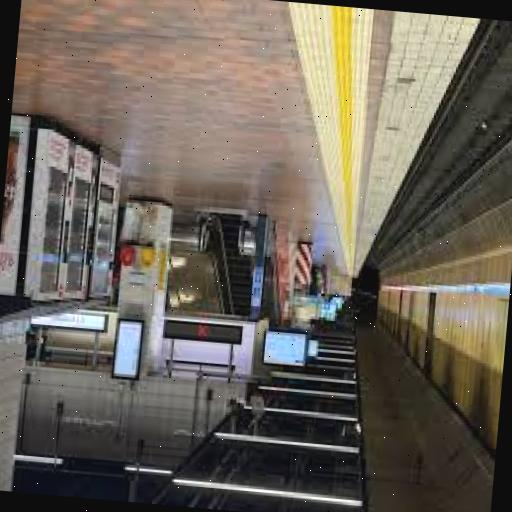clear_path: (19, 0, 346, 262)
platform_edge: (357, 16, 474, 271)
signage: (111, 317, 145, 384), (262, 330, 309, 370)
tgsi: (288, 7, 373, 270)
